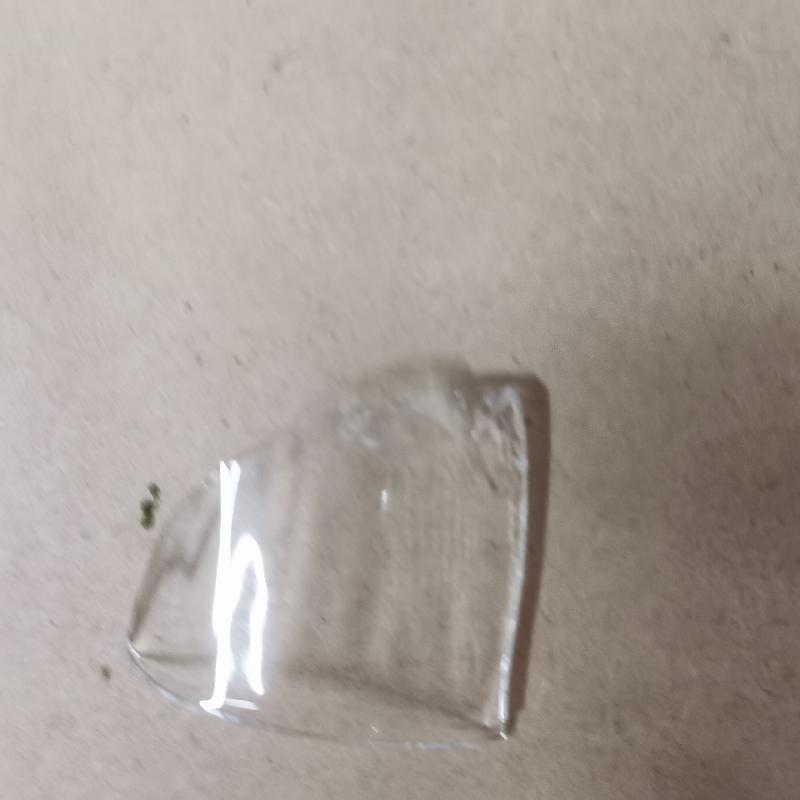glass: (124, 359, 535, 742)
